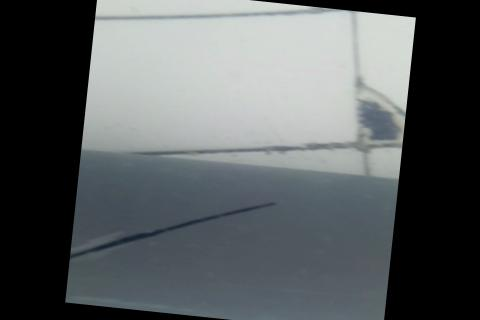keretakan: (69, 179, 280, 282)
